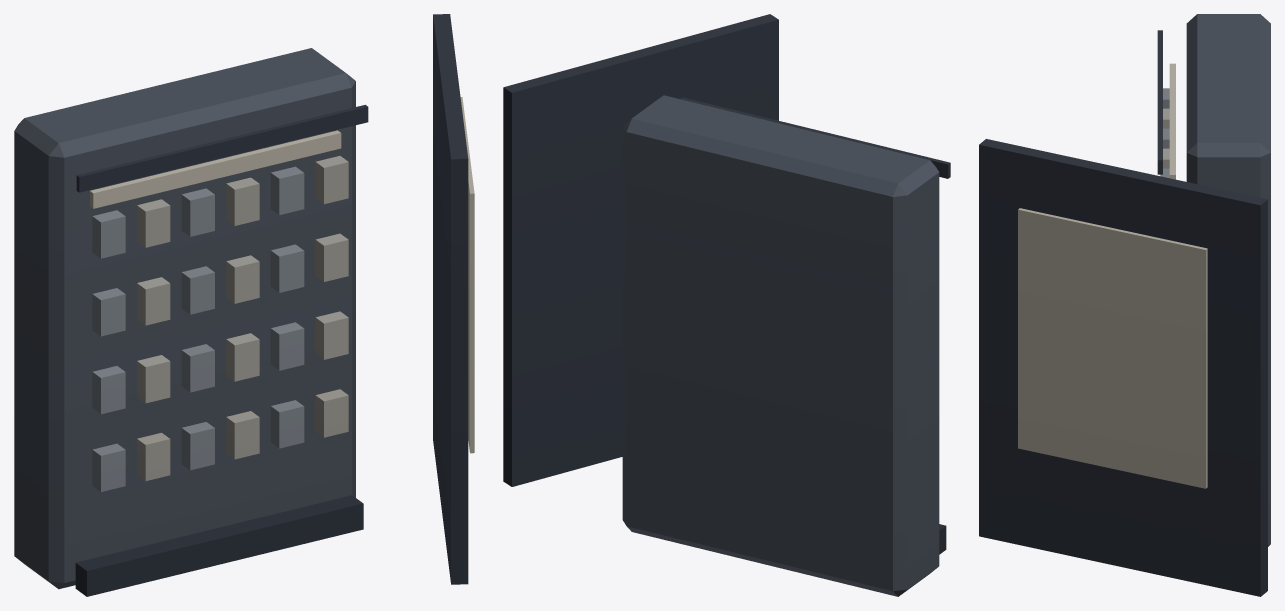
Rendered from breaker_panel.glb.
3 renders of one model, left to right at view 1: azimuth 30°, elevation 25°; view 2: azimuth 150°, elevation 25°; view 3: azimuth 270°, elevation 25°, orthographic. The views are drawn at different scales.
Visible parts, largest first — view 1: breaker_panel; view 2: breaker_panel; view 3: breaker_panel.
Boxes of the visible parts, bbox=[...] form: breaker_panel: bbox=[14, 14, 474, 596]; breaker_panel: bbox=[503, 14, 950, 596]; breaker_panel: bbox=[979, 14, 1270, 596].
Bounding box in the file's own units: 0.8794 × 0.86 × 0.5541.
